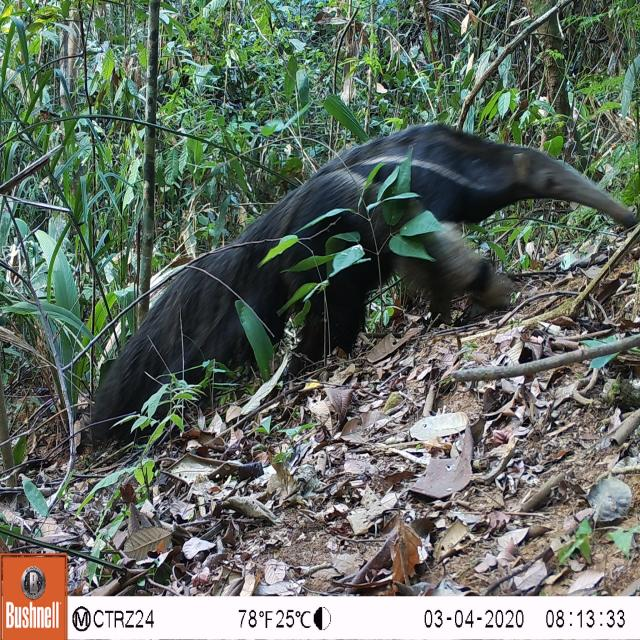Giant Anteater: (80, 112, 640, 447)
